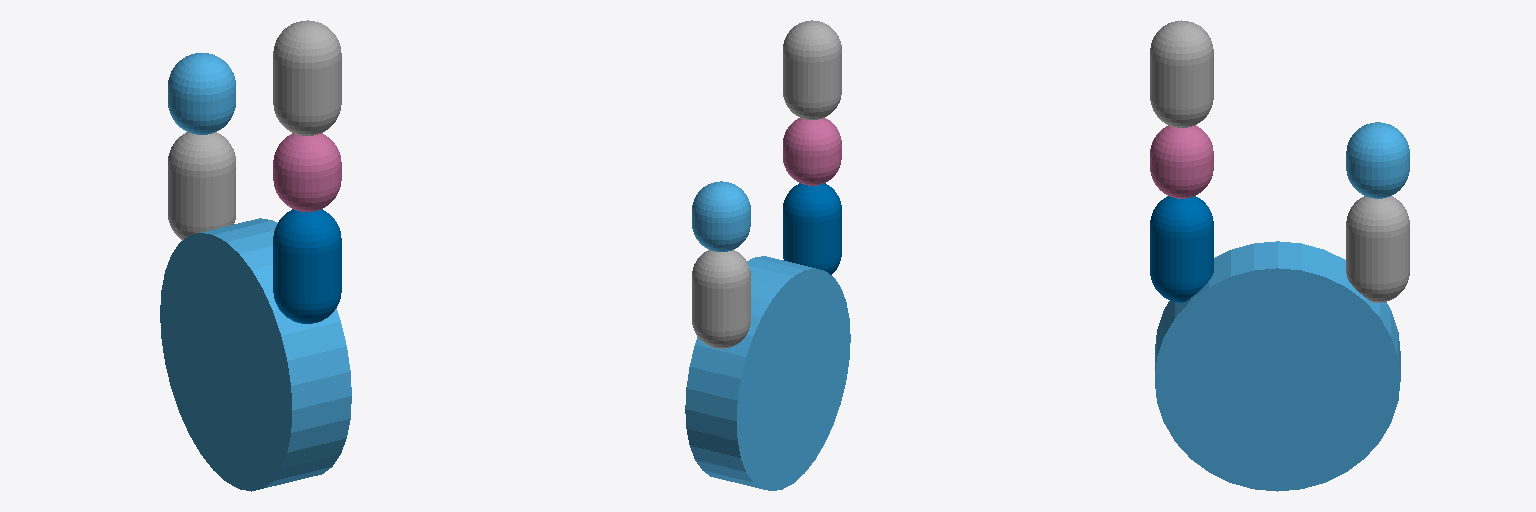
The robot description file, URDF, robot "DexterousHand":
<?xml version="1.0"?>
<robot name="DexterousHand">


    <link name="world"/>
    <joint name="world_to_palm" type="fixed">
        <parent link="world"/>
        <child link="palm"/>
        <origin xyz="0 0 0" rpy="0 0 0"/>
    </joint>
    <link name="palm">
        <inertial>
            <origin xyz="0 0 0.057" rpy="0 0 0"/>
            <mass value="0.30212892864"/>
            <inertia ixx="0.00049080844457568" ixy="0.0" ixz="0.0" iyy="0.00026746366246427523" iyz="0.0" izz="0.00026746366246427523"/>
        </inertial>
        <visual>
            <origin xyz="0 0 0.057" rpy="1.5708 0 1.5708"/>
            <geometry>
                <cylinder radius="0.057" length="0.0296"/>
            </geometry>
            <material name="default"/>
        </visual>
        <collision>
            <origin xyz="0 0 0.057" rpy="1.5708 0 1.5708"/>
            <geometry>
                <cylinder radius="0.057" length="0.0296"/>
            </geometry>
        </collision>
    </link>

    
    <joint name="thumb_joint1" type="revolute">
        <parent link="palm"/>
        <child link="thumb_base"/>
        <origin xyz="0.0 0.0 0.0" rpy="0.0 0.0 0.0"/>
        <axis xyz="1 0 0"/>
        <limit lower="0.0" upper="0.0" effort="1.0" velocity="1.0"/>
    </joint>

    <link name="thumb_base"></link>

    <joint name="thumb_joint2" type="revolute">
        <parent link="thumb_base"/>
        <child link="thumb_proximal"/>
        <origin xyz="0.0 0.0 0.0" rpy="0.0 0.0 0.0"/>
        <axis xyz="0 1 0"/>
        <limit lower="0.0" upper="0.0" effort="1.0" velocity="1.0"/>
    </joint>

    <link name="thumb_proximal">
    </link>

    <joint name="thumb_joint3" type="revolute">
        <parent link="thumb_proximal"/>
        <child link="thumb_knuckle"/>
        <origin xyz="0.0 0.0 0.0" rpy="0.0 0.0 0.0"/>
        <axis xyz="1 0 0"/>
        <limit lower="0.0" upper="0.0" effort="1.0" velocity="1.0"/>
    </joint>

    <link name="thumb_knuckle"></link>

    <joint name="thumb_joint4" type="revolute">
        <parent link="thumb_knuckle"/>
        <child link="thumb_middle"/>
        <origin xyz="0 0 0" rpy="0 0 0"/> 
        <axis xyz="0 1 0"/>
        <limit lower="0.0" upper="0.0" effort="1.0" velocity="1.0"/>
    </joint>

    <link name="thumb_middle">
    </link>

    <joint name="thumb_joint5" type="revolute">
        <parent link="thumb_middle"/>
        <child link="thumb_distal"/>
        <origin xyz="0 0 0" rpy="0 0 0"/> 
        <axis xyz="0 1 0"/>
        <limit lower="0.0" upper="0.0" effort="1.0" velocity="1.0"/>
    </joint>

    <link name="thumb_distal">
    </link>

    
    <joint name="index_joint1" type="revolute">
        <parent link="palm"/>
        <child link="index_proximal"/>
        <origin xyz="0.0 0.0465 0.091" rpy="0.0 0.0 0.0"/>
        <axis xyz="0 1 0"/>
        <limit lower="-0.314" upper="2.23" effort="1.0" velocity="1.0"/>
    </joint>

    <link name="index_proximal">
        <inertial>
            <origin xyz="0 0 0.02655" rpy="0 0 0"/>
            <mass value="0.036540024998400006"/>
            <inertia ixx="1.058665009272394e-05" ixy="0.0" ixz="0.0" 
            iyy="1.058665009272394e-05" iyz="0.0" izz="4.001863537824769e-06"/>
        </inertial>
        <visual>
            <origin xyz="0 0 0.02655" rpy="0 0 0"/>
            <geometry>
                <cylinder radius="0.0148" length="0.0235"/>
            </geometry>
            <material name="default"/>
        </visual>
        <visual>
            <origin xyz="0 0 0.0148" rpy="0 0 0"/>
            <geometry>
                <sphere radius="0.0148"/>
            </geometry>
            <material name="default"/>
        </visual>
        <visual>
            <origin xyz="0 0 0.0383" rpy="0 0 0"/>
            <geometry>
                <sphere radius="0.0148"/>
            </geometry>
            <material name="default"/>
        </visual>
        <collision>
            <origin xyz="0 0 0.02655" rpy="0 0 0"/>
            <geometry>
                <cylinder radius="0.0148" length="0.0235"/>
            </geometry>
        </collision>
        <collision>
            <origin xyz="0 0 0.0148" rpy="0 0 0"/>
            <geometry>
                <sphere radius="0.0148"/>
            </geometry>
        </collision>
        <collision>
            <origin xyz="0 0 0.0383" rpy="0 0 0"/>
            <geometry>
                <sphere radius="0.0148"/>
            </geometry>
        </collision>
    </link>

    <joint name="index_joint2" type="revolute">
        <parent link="index_proximal"/>
        <child link="index_dummy"/>
        <origin xyz="0.0 0.0 0.038" rpy="0.0 0.0 0.0"/>
        <axis xyz="1 0 0"/>
        <limit lower="-1.047" upper="1.047" effort="1.0" velocity="1.0"/>
    </joint>

    <link name="index_dummy"></link>

    <joint name="index_joint3" type="revolute">
        <parent link="index_dummy"/>
        <child link="index_middle"/>
        <origin xyz="0 0 0.015100000000000002" rpy="0 0 0"/>
        <axis xyz="0 1 0"/>
        <limit lower="-0.506" upper="1.885" effort="1.0" velocity="1.0"/>
    </joint>

    <link name="index_middle">
        <inertial>
            <origin xyz="0 0 0.01805" rpy="0 0 0"/>
            <mass value="0.0248417119104"/>
            <inertia ixx="4.058162759109537e-06" ixy="0.0" ixz="0.0" 
            iyy="4.058162759109537e-06" iyz="0.0" izz="2.7206642884270085e-06"/>
        </inertial>
        <visual>
            <origin xyz="0 0 0.01805" rpy="0 0 0"/>
            <geometry>
                <cylinder radius="0.0148" length="0.006499999999999999"/>
            </geometry>
            <material name="default"/>
        </visual>
        <visual>
            <origin xyz="0 0 0.0148" rpy="0 0 0"/>
            <geometry>
                <sphere radius="0.0148"/>
            </geometry>
            <material name="default"/>
        </visual>
        <visual>
            <origin xyz="0 0 0.0213" rpy="0 0 0"/>
            <geometry>
                <sphere radius="0.0148"/>
            </geometry>
            <material name="default"/>
        </visual>
        <collision>
            <origin xyz="0 0 0.01805" rpy="0 0 0"/>
            <geometry>
                <cylinder radius="0.0148" length="0.006499999999999999"/>
            </geometry>
        </collision>
        <collision>
            <origin xyz="0 0 0.0148" rpy="0 0 0"/>
            <geometry>
                <sphere radius="0.0148"/>
            </geometry>
        </collision>
        <collision>
            <origin xyz="0 0 0.0213" rpy="0 0 0"/>
            <geometry>
                <sphere radius="0.0148"/>
            </geometry>
        </collision>
    </link>

    <joint name="index_joint4" type="revolute">
        <parent link="index_middle"/>
        <child link="index_distal"/>
        <origin xyz="0 0 0.0361" rpy="0 0 0"/> 
        <axis xyz="0 1 0"/>
        <limit lower="0.0" upper="0.0" effort="1.0" velocity="1.0"/>
    </joint>

    <link name="index_distal">
    </link>

    
    <joint name="middle_joint1" type="revolute">
        <parent link="palm"/>
        <child link="middle_proximal"/>
        <origin xyz="0.0 0.0 0.0" rpy="0.0 0.0 0.0"/>
        <axis xyz="1 0 0"/>
        <limit lower="0.0" upper="0.0" effort="1.0" velocity="1.0"/>
    </joint>

    <link name="middle_proximal">
    </link>

    <joint name="middle_joint2" type="revolute">
        <parent link="middle_proximal"/>
        <child link="middle_dummy"/>
        <origin xyz="0.0 0.0 0.0" rpy="0.0 0.0 0.0"/>
        <axis xyz="0 1 0"/>
        <limit lower="0.0" upper="0.0" effort="1.0" velocity="1.0"/>
    </joint>

    <link name="middle_dummy"></link>

    <joint name="middle_joint3" type="revolute">
        <parent link="middle_dummy"/>
        <child link="middle_middle"/>
        <origin xyz="0 0 0" rpy="0 0 0"/>
        <axis xyz="0 1 0"/>
        <limit lower="0.0" upper="0.0" effort="1.0" velocity="1.0"/>
    </joint>

    <link name="middle_middle">
    </link>

    <joint name="middle_joint4" type="revolute">
        <parent link="middle_middle"/>
        <child link="middle_distal"/>
        <origin xyz="0 0 0" rpy="0 0 0"/> 
        <axis xyz="0 1 0"/>
        <limit lower="0.0" upper="0.0" effort="1.0" velocity="1.0"/>
    </joint>

    <link name="middle_distal">
    </link>

    
    <joint name="ring_joint1" type="revolute">
        <parent link="palm"/>
        <child link="ring_proximal"/>
        <origin xyz="0.0 0.0 0.0" rpy="0.0 0.0 0.0"/>
        <axis xyz="1 0 0"/>
        <limit lower="0.0" upper="0.0" effort="1.0" velocity="1.0"/>
    </joint>

    <link name="ring_proximal">
    </link>

    <joint name="ring_joint2" type="revolute">
        <parent link="ring_proximal"/>
        <child link="ring_dummy"/>
        <origin xyz="0.0 0.0 0.0" rpy="0.0 0.0 0.0"/>
        <axis xyz="0 1 0"/>
        <limit lower="0.0" upper="0.0" effort="1.0" velocity="1.0"/>
    </joint>

    <link name="ring_dummy"></link>

    <joint name="ring_joint3" type="revolute">
        <parent link="ring_dummy"/>
        <child link="ring_middle"/>
        <origin xyz="0 0 0" rpy="0 0 0"/>
        <axis xyz="0 1 0"/>
        <limit lower="0.0" upper="0.0" effort="1.0" velocity="1.0"/>
    </joint>

    <link name="ring_middle">
    </link>

    <joint name="ring_joint4" type="revolute">
        <parent link="ring_middle"/>
        <child link="ring_distal"/>
        <origin xyz="0 0 0" rpy="0 0 0"/> 
        <axis xyz="0 1 0"/>
        <limit lower="0.0" upper="0.0" effort="1.0" velocity="1.0"/>
    </joint>

    <link name="ring_distal">
    </link>

    
    <joint name="little_joint0" type="revolute">
        <parent link="palm"/>
        <child link="little_base"/>
        <origin xyz="0.0 0.0 0.0" rpy="0.0 0.0 0.0"/>
        <axis xyz="0 1 0"/>
        <limit lower="0.0" upper="0.0" effort="1.0" velocity="1.0"/>
    </joint>

    <link name="little_base"></link>

    <joint name="little_joint1" type="revolute">
        <parent link="little_base"/>
        <child link="little_proximal"/>
        <origin xyz="0.0 -0.0443 0.091" rpy="-0.0 -0.0 -0.0"/>
        <axis xyz="0 1 0"/>
        <limit lower="-0.314" upper="2.23" effort="1.0" velocity="1.0"/>
    </joint>

    <link name="little_proximal">
        <inertial>
            <origin xyz="0 0 0.02655" rpy="0 0 0"/>
            <mass value="0.036540024998400006"/>
            <inertia ixx="1.058665009272394e-05" ixy="0.0" ixz="0.0" 
            iyy="1.058665009272394e-05" iyz="0.0" izz="4.001863537824769e-06"/>
        </inertial>
        <visual>
            <origin xyz="0 0 0.02655" rpy="0 0 0"/>
            <geometry>
                <cylinder radius="0.0148" length="0.0235"/>
            </geometry>
            <material name="default"/>
        </visual>
        <visual>
            <origin xyz="0 0 0.0148" rpy="0 0 0"/>
            <geometry>
                <sphere radius="0.0148"/>
            </geometry>
            <material name="default"/>
        </visual>
        <visual>
            <origin xyz="0 0 0.0383" rpy="0 0 0"/>
            <geometry>
                <sphere radius="0.0148"/>
            </geometry>
            <material name="default"/>
        </visual>
        <collision>
            <origin xyz="0 0 0.02655" rpy="0 0 0"/>
            <geometry>
                <cylinder radius="0.0148" length="0.0235"/>
            </geometry>
        </collision>
        <collision>
            <origin xyz="0 0 0.0148" rpy="0 0 0"/>
            <geometry>
                <sphere radius="0.0148"/>
            </geometry>
        </collision>
        <collision>
            <origin xyz="0 0 0.0383" rpy="0 0 0"/>
            <geometry>
                <sphere radius="0.0148"/>
            </geometry>
        </collision>
    </link>

    <joint name="little_joint2" type="revolute">
        <parent link="little_proximal"/>
        <child link="little_dummy"/>
        <origin xyz="0.0 0.0 0.038" rpy="0.0 0.0 0.0"/>
        <axis xyz="1 0 0"/>
        <limit lower="-1.047" upper="1.047" effort="1.0" velocity="1.0"/>
    </joint>

    <link name="little_dummy"></link>

    <joint name="little_joint3" type="revolute">
        <parent link="little_dummy"/>
        <child link="little_middle"/>
        <origin xyz="0 0 0.015100000000000002" rpy="0 0 0"/>
        <axis xyz="0 1 0"/>
        <limit lower="-0.506" upper="1.885" effort="1.0" velocity="1.0"/>
    </joint>

    <link name="little_middle">
        <inertial>
            <origin xyz="0 0 0.01805" rpy="0 0 0"/>
            <mass value="0.0248417119104"/>
            <inertia ixx="4.058162759109537e-06" ixy="0.0" ixz="0.0" 
            iyy="4.058162759109537e-06" iyz="0.0" izz="2.7206642884270085e-06"/>
        </inertial>
        <visual>
            <origin xyz="0 0 0.01805" rpy="0 0 0"/>
            <geometry>
                <cylinder radius="0.0148" length="0.006499999999999999"/>
            </geometry>
            <material name="default"/>
        </visual>
        <visual>
            <origin xyz="0 0 0.0148" rpy="0 0 0"/>
            <geometry>
                <sphere radius="0.0148"/>
            </geometry>
            <material name="default"/>
        </visual>
        <visual>
            <origin xyz="0 0 0.0213" rpy="0 0 0"/>
            <geometry>
                <sphere radius="0.0148"/>
            </geometry>
            <material name="default"/>
        </visual>
        <collision>
            <origin xyz="0 0 0.01805" rpy="0 0 0"/>
            <geometry>
                <cylinder radius="0.0148" length="0.006499999999999999"/>
            </geometry>
        </collision>
        <collision>
            <origin xyz="0 0 0.0148" rpy="0 0 0"/>
            <geometry>
                <sphere radius="0.0148"/>
            </geometry>
        </collision>
        <collision>
            <origin xyz="0 0 0.0213" rpy="0 0 0"/>
            <geometry>
                <sphere radius="0.0148"/>
            </geometry>
        </collision>
    </link>

    <joint name="little_joint4" type="revolute">
        <parent link="little_middle"/>
        <child link="little_distal"/>
        <origin xyz="0 0 0.0361" rpy="0 0 0"/>
        <axis xyz="0 1 0"/>
        <limit lower="-0.366" upper="2.042" effort="1.0" velocity="1.0"/>
    </joint>

    <link name="little_distal">
        <inertial>
            <origin xyz="0 0 0.026" rpy="0 0 0"/>
            <mass value="0.035783075328"/>
            <inertia ixx="1.002260084553728e-05" ixy="0.0" ixz="0.0" 
            iyy="1.002260084553728e-05" iyz="0.0" izz="3.91896240992256e-06"/>
        </inertial>
        <visual>
            <origin xyz="0 0 0.026" rpy="0 0 0"/>
            <geometry>
                <cylinder radius="0.0148" length="0.022399999999999996"/>
            </geometry>
            <material name="default"/>
        </visual>
        <visual>
            <origin xyz="0 0 0.0148" rpy="0 0 0"/>
            <geometry>
                <sphere radius="0.0148"/>
            </geometry>
            <material name="default"/>
        </visual>
        <visual>
            <origin xyz="0 0 0.0372" rpy="0 0 0"/>
            <geometry>
                <sphere radius="0.0148"/>
            </geometry>
            <material name="default"/>
        </visual>
        <collision>
            <origin xyz="0 0 0.026" rpy="0 0 0"/>
            <geometry>
                <cylinder radius="0.0148" length="0.022399999999999996"/>
            </geometry>
        </collision>
        <collision>
            <origin xyz="0 0 0.0148" rpy="0 0 0"/>
            <geometry>
                <sphere radius="0.0148"/>
            </geometry>
        </collision>
        <collision>
            <origin xyz="0 0 0.0372" rpy="0 0 0"/>
            <geometry>
                <sphere radius="0.0148"/>
            </geometry>
        </collision>
    </link>

</robot>

--- Facts derived from the render (not from the file) ---
Views: 3 orthographic renders of the robot side by side, from view 1: azimuth 30°, elevation 25°; view 2: azimuth 150°, elevation 25°; view 3: azimuth 270°, elevation 25°.
Robot: DexterousHand — 24 links, 23 joints (22 revolute, 1 fixed); root link world; default pose: all joints at 0.
Links seen in each view (by area): view 1: palm, little_proximal, little_distal, index_proximal, index_middle, little_middle; view 2: palm, index_proximal, little_distal, little_proximal, index_middle, little_middle; view 3: palm, little_distal, index_proximal, little_proximal, index_middle, little_middle.
Link boxes in pixels (bbox=[...]): palm: bbox=[160, 218, 351, 491]; little_proximal: bbox=[273, 209, 341, 323]; little_distal: bbox=[273, 20, 341, 135]; index_proximal: bbox=[168, 132, 235, 240]; index_middle: bbox=[168, 53, 235, 134]; little_middle: bbox=[273, 133, 341, 211]; palm: bbox=[685, 256, 850, 490]; index_proximal: bbox=[692, 250, 750, 348]; little_distal: bbox=[783, 20, 841, 119]; little_proximal: bbox=[783, 183, 841, 274]; index_middle: bbox=[692, 181, 750, 251]; little_middle: bbox=[783, 118, 841, 185]; palm: bbox=[1155, 241, 1400, 491]; little_distal: bbox=[1150, 20, 1213, 127]; index_proximal: bbox=[1346, 196, 1409, 302]; little_proximal: bbox=[1150, 196, 1213, 302]; index_middle: bbox=[1346, 122, 1409, 198]; little_middle: bbox=[1150, 125, 1213, 198].
Size in the robot's own frame: 0.0296 by 0.1204 by 0.2322 metres.
Geometry: primitives only (box / cylinder / sphere), no mesh files.
